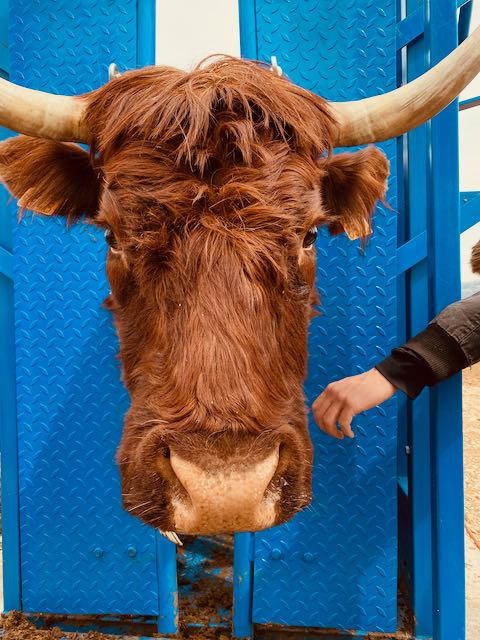muzzles: (119, 432, 316, 541)
